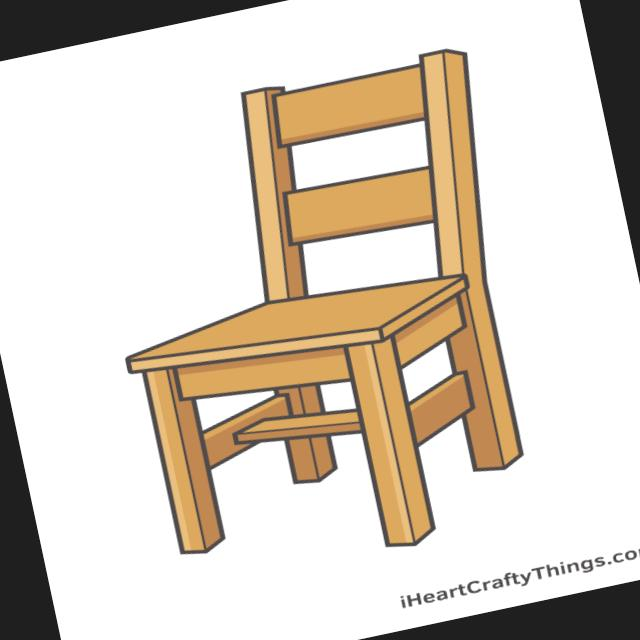obstacle: (70, 0, 583, 585)
